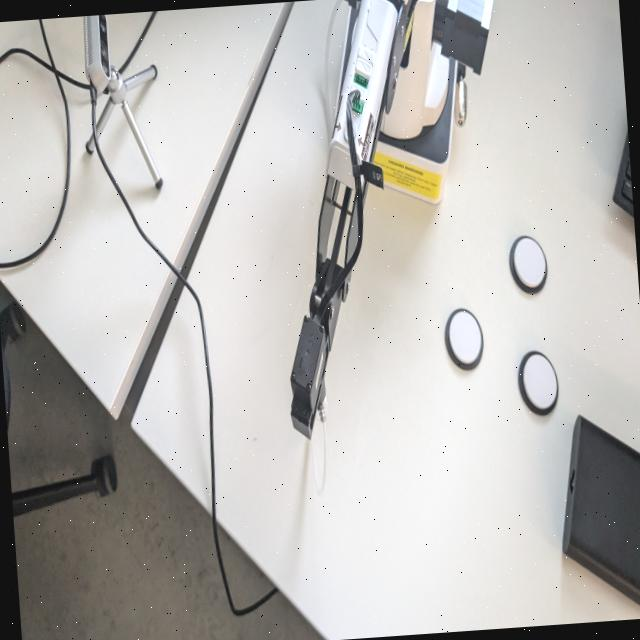Robot-end-effector-HF8z: (280, 306, 340, 442)
